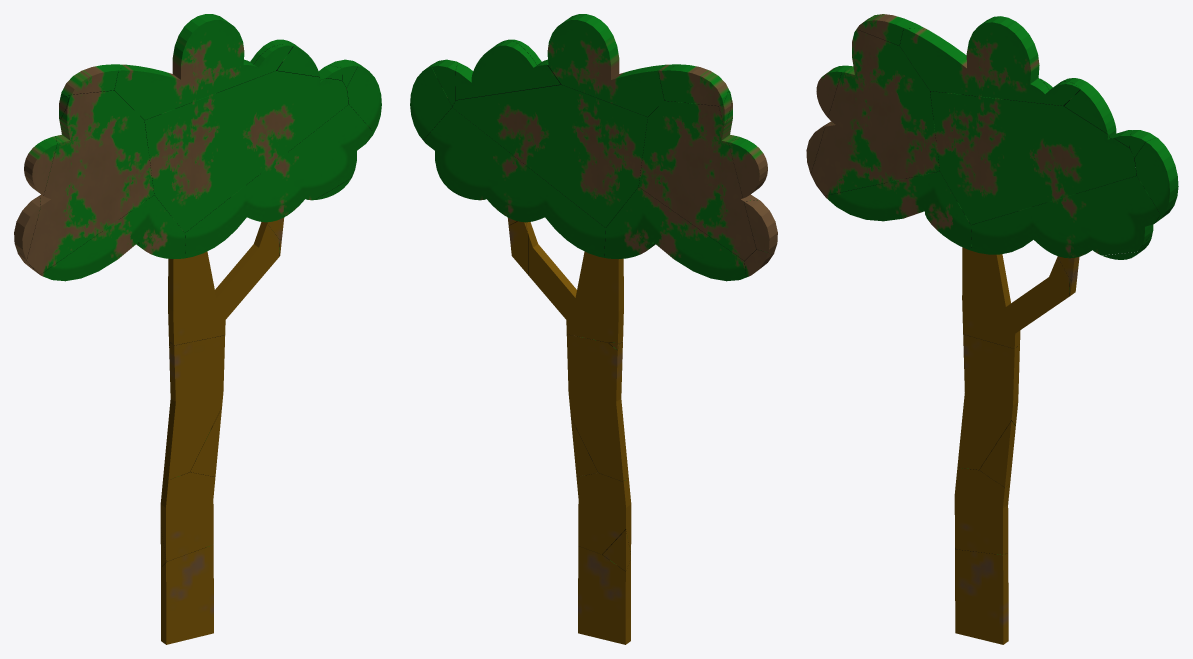
The model's file is Arbol4.fbx.
The picture shows the model from 3 angles, left to right: view 1: azimuth 30°, elevation 25°; view 2: azimuth 150°, elevation 25°; view 3: azimuth 330°, elevation 25°; orthographic projection.
Visible parts, largest first — view 1: arbol 4_cell.003, arbol 4_cell.009, arbol 4_cell.011, arbol 4_cell.002, arbol 4.001_cell.001, arbol 4.001_cell.010, arbol 4_cell.012, arbol 4.001_cell.004, arbol 4.001_cell.006, arbol 4_cell.010, arbol 4_cell, arbol 4_cell.004 (+3 smaller); view 2: arbol 4_cell.003, arbol 4_cell.009, arbol 4_cell.011, arbol 4_cell.002, arbol 4.001_cell.010, arbol 4_cell.012, arbol 4.001_cell.001, arbol 4.001_cell.004, arbol 4_cell, arbol 4.001_cell.006, arbol 4_cell.004, arbol 4_cell.010 (+6 smaller); view 3: arbol 4_cell.003, arbol 4_cell.009, arbol 4_cell.011, arbol 4_cell.002, arbol 4.001_cell.001, arbol 4.001_cell.010, arbol 4_cell.012, arbol 4.001_cell.004, arbol 4.001_cell.006, arbol 4_cell.010, arbol 4_cell, arbol 4.001_cell.012 (+2 smaller).
Part boxes in pixels (box(x1,y1,x2,y2)): arbol 4_cell.003: box(140, 71, 348, 232); arbol 4_cell.009: box(26, 90, 154, 274); arbol 4_cell.011: box(185, 104, 371, 257); arbol 4_cell.002: box(114, 14, 292, 119); arbol 4.001_cell.001: box(168, 222, 279, 345); arbol 4.001_cell.010: box(163, 335, 225, 479); arbol 4_cell.012: box(40, 195, 185, 281); arbol 4.001_cell.004: box(161, 544, 213, 644); arbol 4.001_cell.006: box(160, 472, 215, 561); arbol 4_cell.010: box(346, 60, 381, 130); arbol 4_cell: box(244, 39, 342, 80); arbol 4_cell.004: box(60, 64, 124, 97); arbol 4_cell.003: box(452, 84, 647, 227); arbol 4_cell.009: box(638, 89, 758, 260); arbol 4_cell.011: box(424, 107, 605, 257); arbol 4_cell.002: box(508, 14, 680, 116); arbol 4.001_cell.010: box(566, 334, 628, 481); arbol 4_cell.012: box(604, 187, 746, 281); arbol 4.001_cell.001: box(526, 222, 623, 343); arbol 4.001_cell.004: box(578, 546, 630, 644); arbol 4_cell: box(455, 40, 560, 99); arbol 4.001_cell.006: box(576, 472, 631, 554); arbol 4_cell.004: box(658, 64, 728, 105); arbol 4_cell.010: box(410, 60, 451, 138); arbol 4_cell.003: box(930, 91, 1136, 224); arbol 4_cell.009: box(811, 29, 939, 195); arbol 4_cell.011: box(971, 170, 1160, 258); arbol 4_cell.002: box(899, 16, 1080, 105); arbol 4.001_cell.001: box(962, 247, 1069, 348); arbol 4.001_cell.010: box(957, 334, 1019, 469); arbol 4_cell.012: box(825, 171, 971, 250); arbol 4.001_cell.004: box(955, 549, 1008, 644); arbol 4.001_cell.006: box(954, 467, 1009, 554); arbol 4_cell.010: box(1134, 137, 1178, 215); arbol 4_cell: box(1040, 78, 1132, 148); arbol 4.001_cell.012: box(979, 421, 1015, 487).
Size of the model in its own units: 442 by 722 by 17.73.
